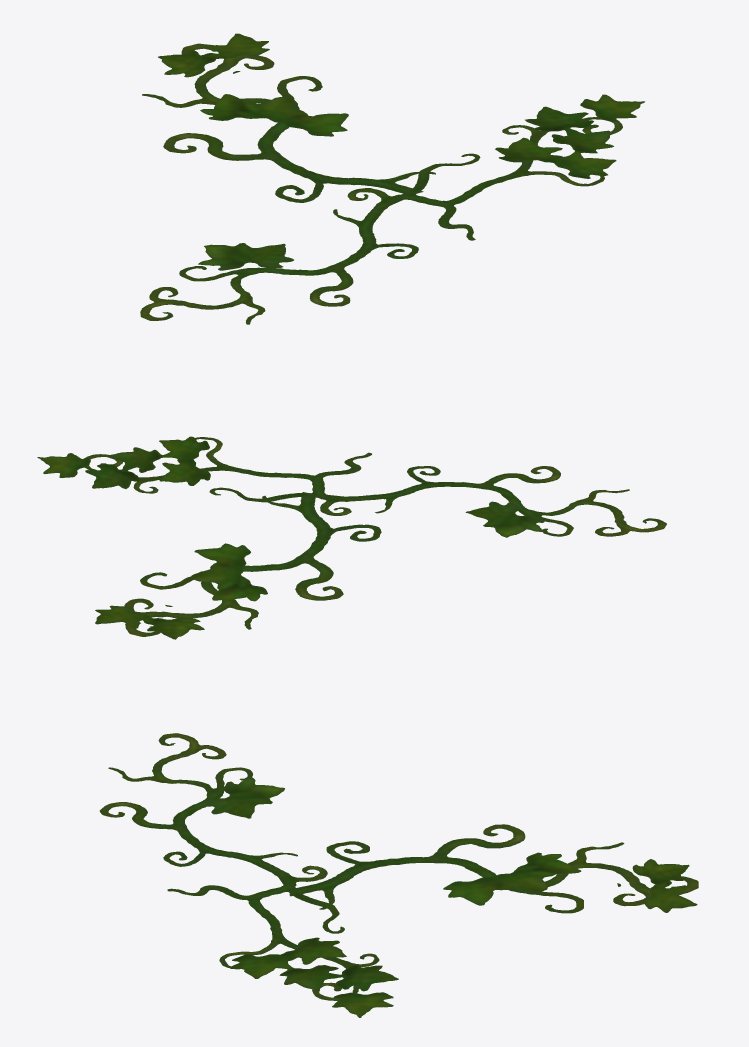
Rendered from ZhiBei02.FBX.
3 views of the same model, one above another, from view 1: azimuth 30°, elevation 25°; view 2: azimuth 150°, elevation 25°; view 3: azimuth 270°, elevation 25° (orthographic). The views are drawn at different scales.
Visible parts, largest first — view 1: __053; view 2: __053; view 3: __053.
Part boxes in pixels (<box>): __053: <box>140,33,644,324</box>; __053: <box>37,436,666,639</box>; __053: <box>99,733,698,1017</box>.
Size of the model in its own units: 41.96 by 39.45 by 0.118.
